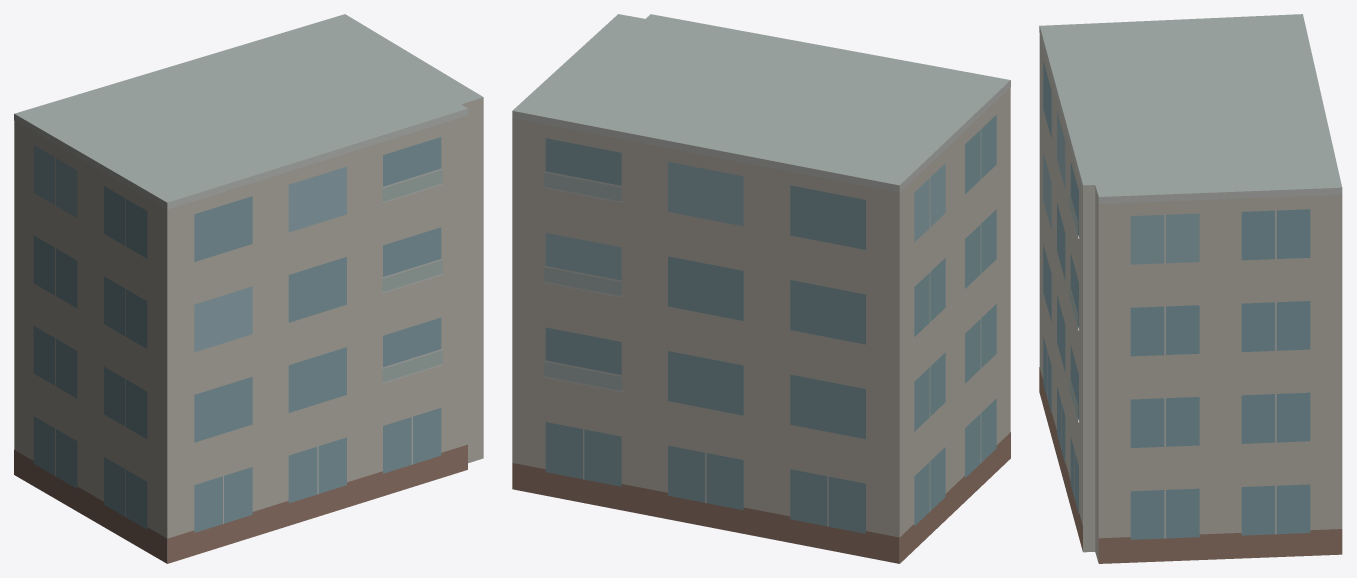
The model's file is survey-upis-33010588.glb.
3 renders of one model, left to right at view 1: azimuth 30°, elevation 25°; view 2: azimuth 150°, elevation 25°; view 3: azimuth 270°, elevation 25°, orthographic. The views are drawn at different scales.
Visible parts, largest first — view 1: survey-upis-33010588.tmp; view 2: survey-upis-33010588.tmp; view 3: survey-upis-33010588.tmp.
Part boxes in pixels (box(x1,y1,x2,y2)): survey-upis-33010588.tmp: box(14, 14, 483, 563); survey-upis-33010588.tmp: box(512, 14, 1010, 563); survey-upis-33010588.tmp: box(1039, 14, 1342, 563).
Bounding box in the file's own units: 13.7 × 12.8 × 9.58.
